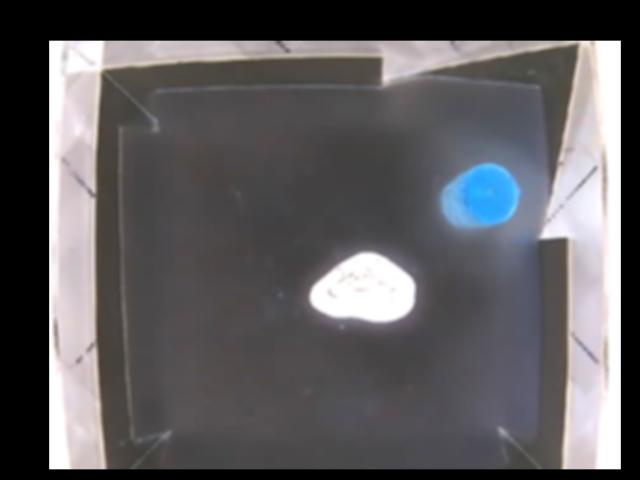Carrot: (441, 161, 522, 229)
Pebble: (308, 252, 415, 320)
